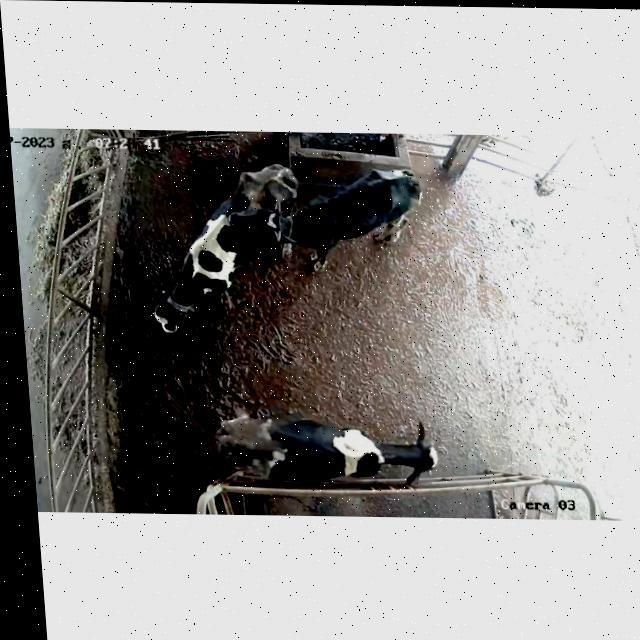propping: (199, 197, 324, 254)
